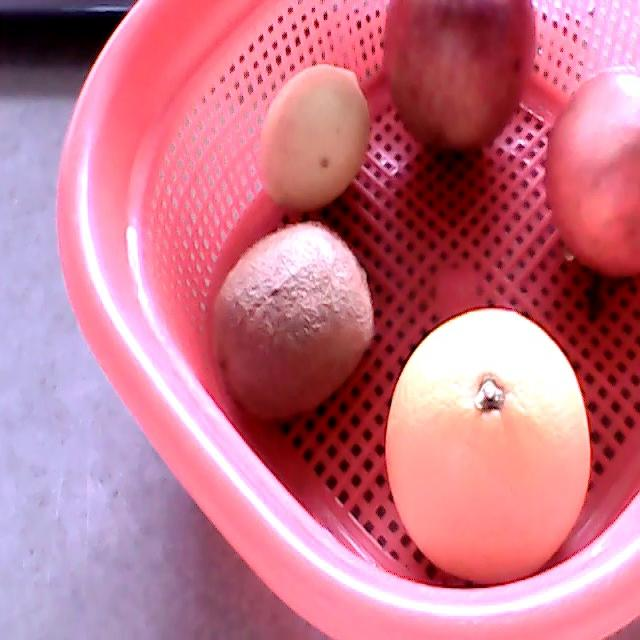apple: (382, 0, 537, 155)
kiwi: (213, 220, 373, 419)
lemon: (256, 62, 371, 212)
orange: (385, 307, 592, 583)
pomegranate: (546, 67, 639, 279)
